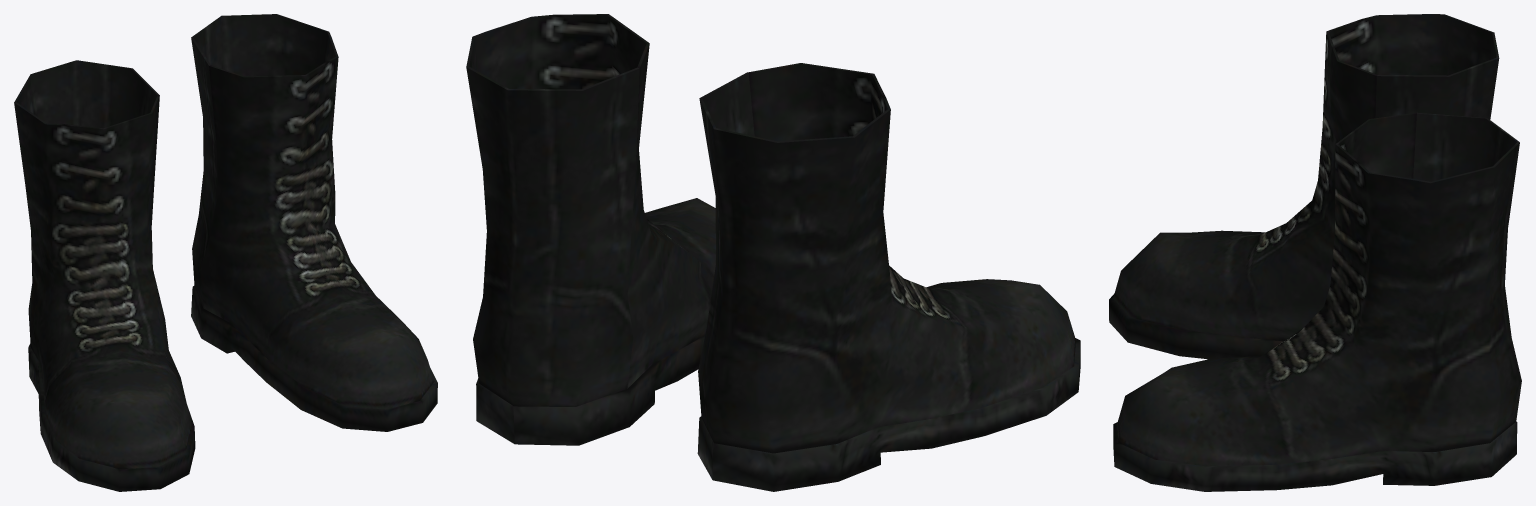
File: Boots 4.FBX
3 renders of one model, left to right at view 1: azimuth 30°, elevation 25°; view 2: azimuth 150°, elevation 25°; view 3: azimuth 270°, elevation 25°, orthographic. The views are drawn at different scales.
Parts seen in each view (by area): view 1: Left boot, Right boot; view 2: Right boot, Left boot; view 3: Left boot, Right boot.
Part boxes in pixels (<box>): Left boot: <box>191,14,437,431</box>; Right boot: <box>14,60,195,491</box>; Right boot: <box>697,63,1080,491</box>; Left boot: <box>466,14,715,445</box>; Left boot: <box>1113,112,1521,491</box>; Right boot: <box>1109,14,1499,359</box>.
Size of the model in its own units: 24.94 by 21.76 by 18.29.
1 material, 1 textured.
